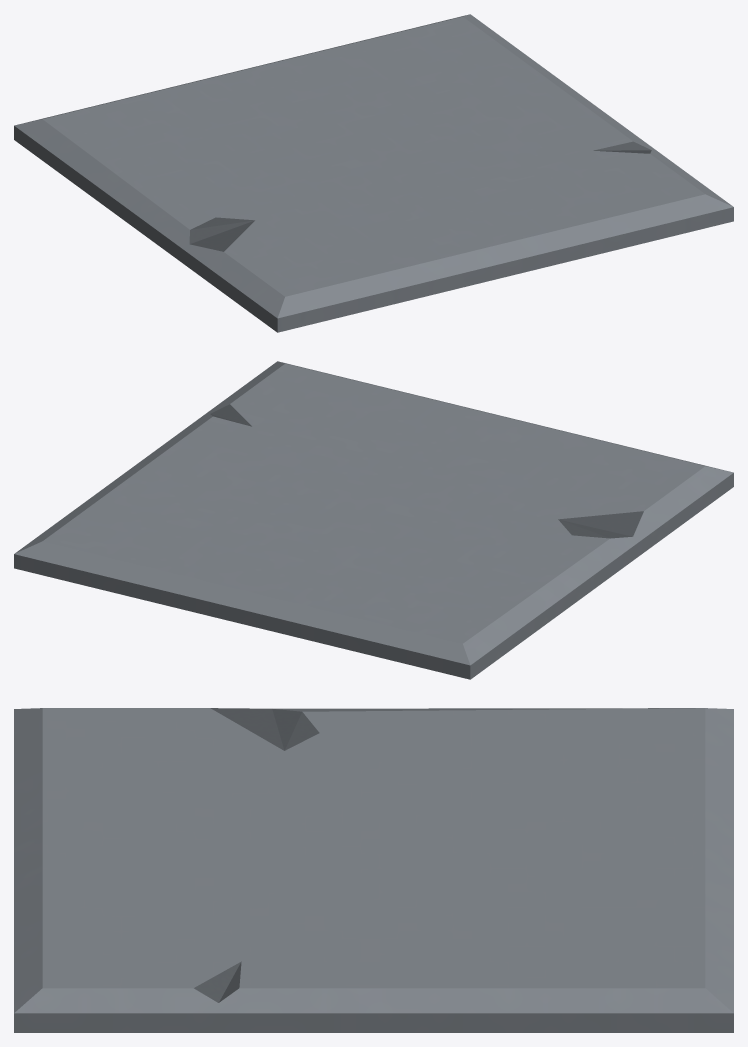
File: Floor_Stone_Damaged.fbx
The picture shows the model from 3 angles, top to bottom: view 1: azimuth 30°, elevation 25°; view 2: azimuth 150°, elevation 25°; view 3: azimuth 270°, elevation 25°; orthographic projection. The views are drawn at different scales.
Parts seen in each view (by area): view 1: Floor_Stone_Damaged; view 2: Floor_Stone_Damaged; view 3: Floor_Stone_Damaged.
Part boxes in pixels (<box>): Floor_Stone_Damaged: <box>14,14,733,332</box>; Floor_Stone_Damaged: <box>14,361,733,679</box>; Floor_Stone_Damaged: <box>14,708,733,1032</box>.
Bounding box in the file's own units: 2 × 0.1 × 2.
